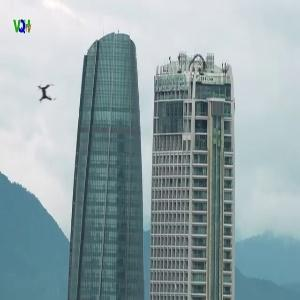drone: (25, 72, 67, 114)
